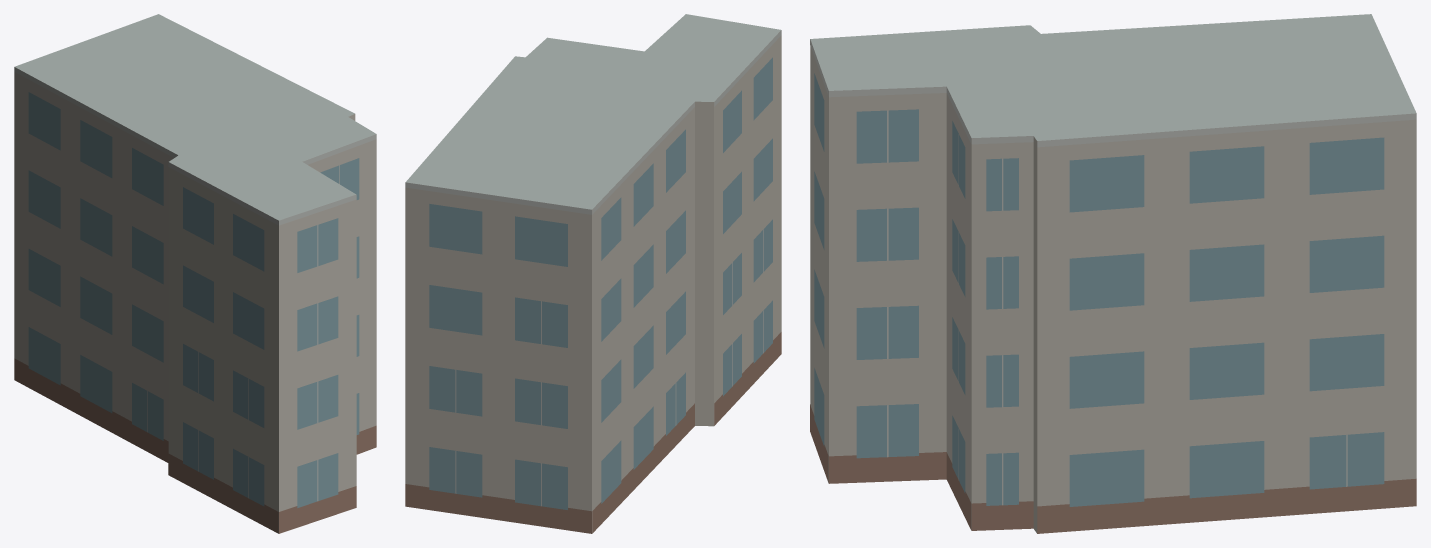
Rendered from survey-upis-32671277.glb.
3 views of the same model, side by side, from view 1: azimuth 30°, elevation 25°; view 2: azimuth 150°, elevation 25°; view 3: azimuth 270°, elevation 25° (orthographic). The views are drawn at different scales.
Parts seen in each view (by area): view 1: survey-upis-32671277.tmp; view 2: survey-upis-32671277.tmp; view 3: survey-upis-32671277.tmp.
Part boxes in pixels (x1,y1,x2,y2): survey-upis-32671277.tmp: (14,14,376,533); survey-upis-32671277.tmp: (405,14,781,533); survey-upis-32671277.tmp: (810,14,1416,533).
Bounding box in the file's own units: 10.63 × 15.3 × 21.42.
